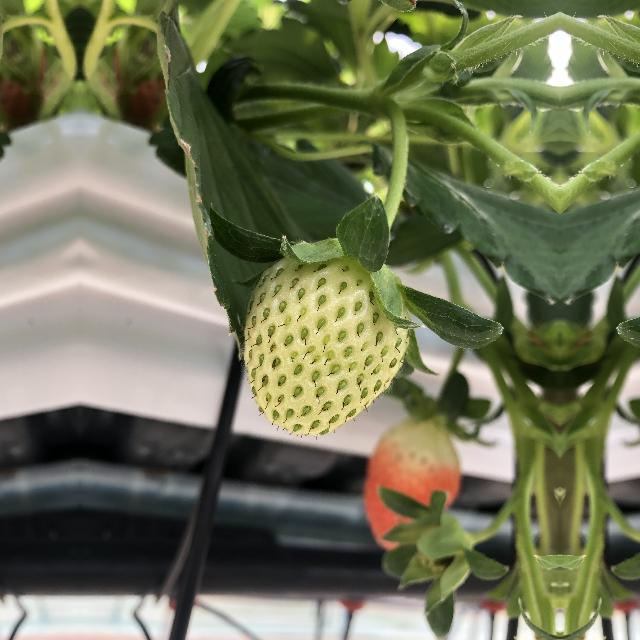Health_25: (239, 236, 421, 442)
